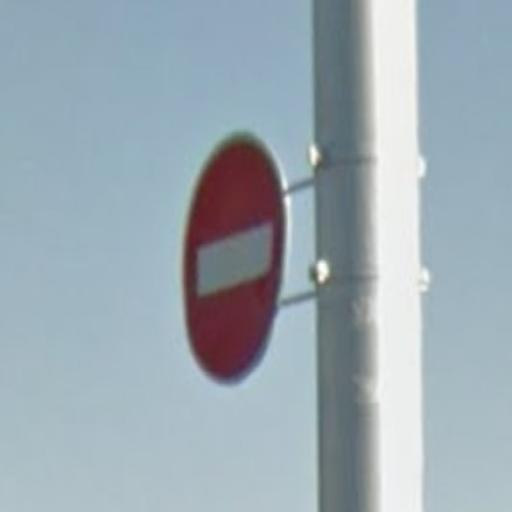traffic_sign: (180, 129, 291, 392)
